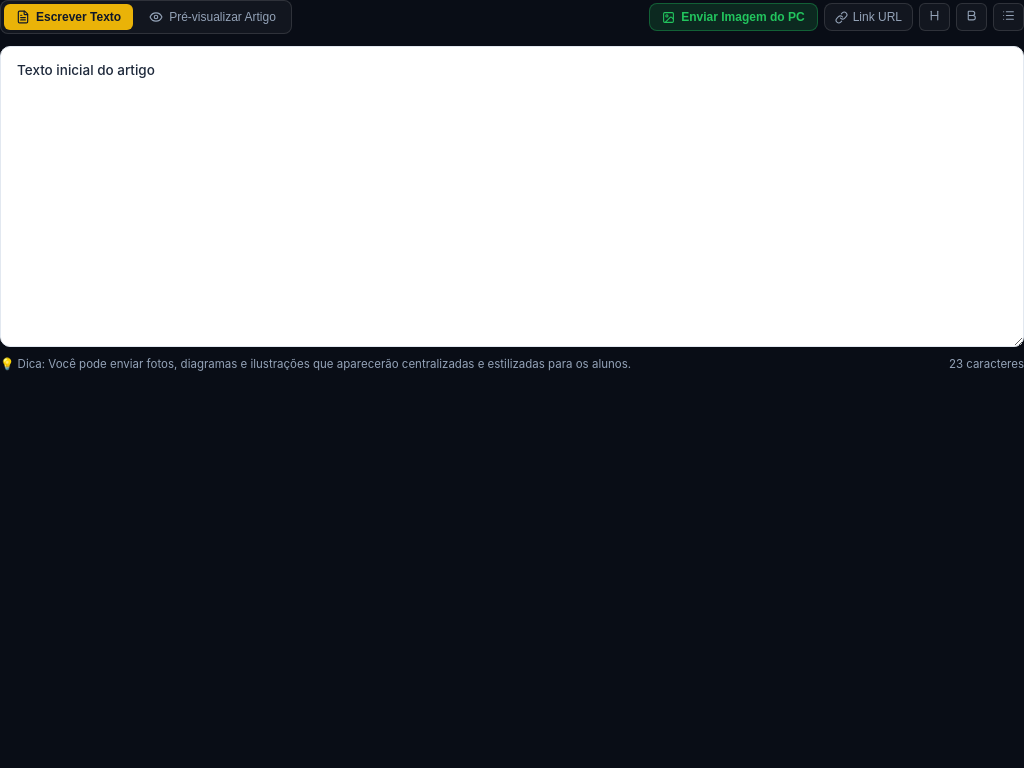
LessonArticleEditor Component › renders editor tabs, toolbar with image buttons, and allows inserting image via link and previewing
Expected: the button with test id "article-tab-write-btn" is shown, [4,4,133,30]
Expected: the button with test id "article-tab-preview-btn" is shown, [137,4,288,30]
Note: Abre modal de URL de imagem
Click the button with test id "insert-image-url-btn": [868, 17] box [824,3,913,31]
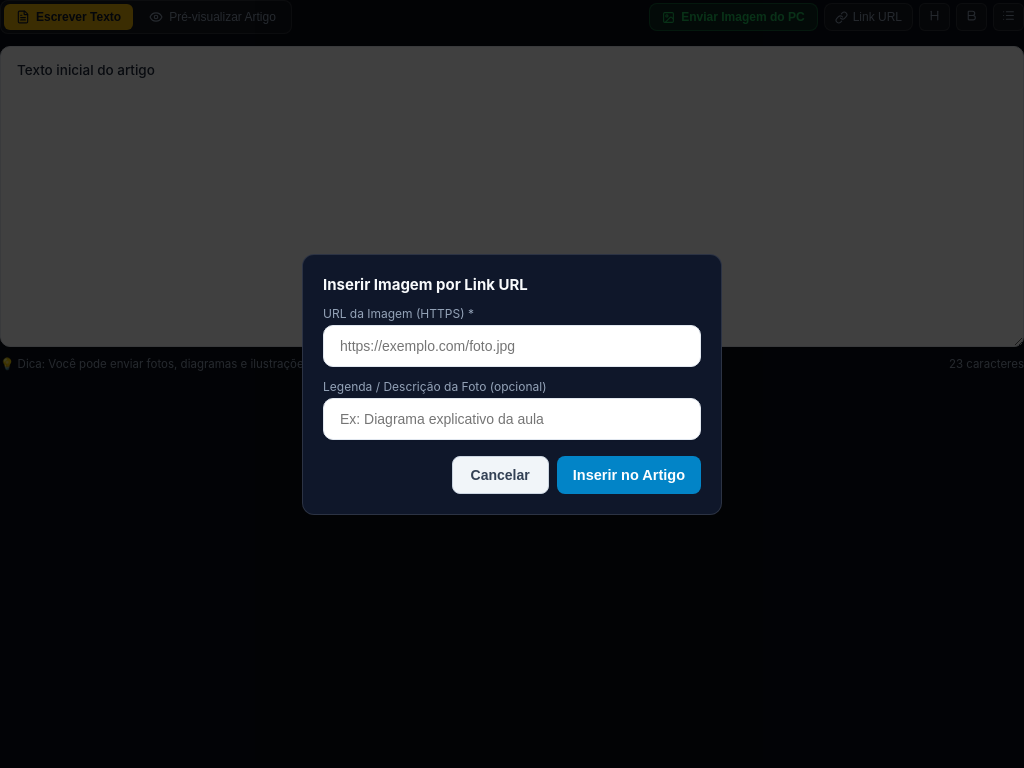
Expected: the field with test id "url-image-input" is shown
In the field with test id "url-image-input": [512, 346] box [323,324,701,366], type "https://cdn.exemplo.com/foto.jpg"
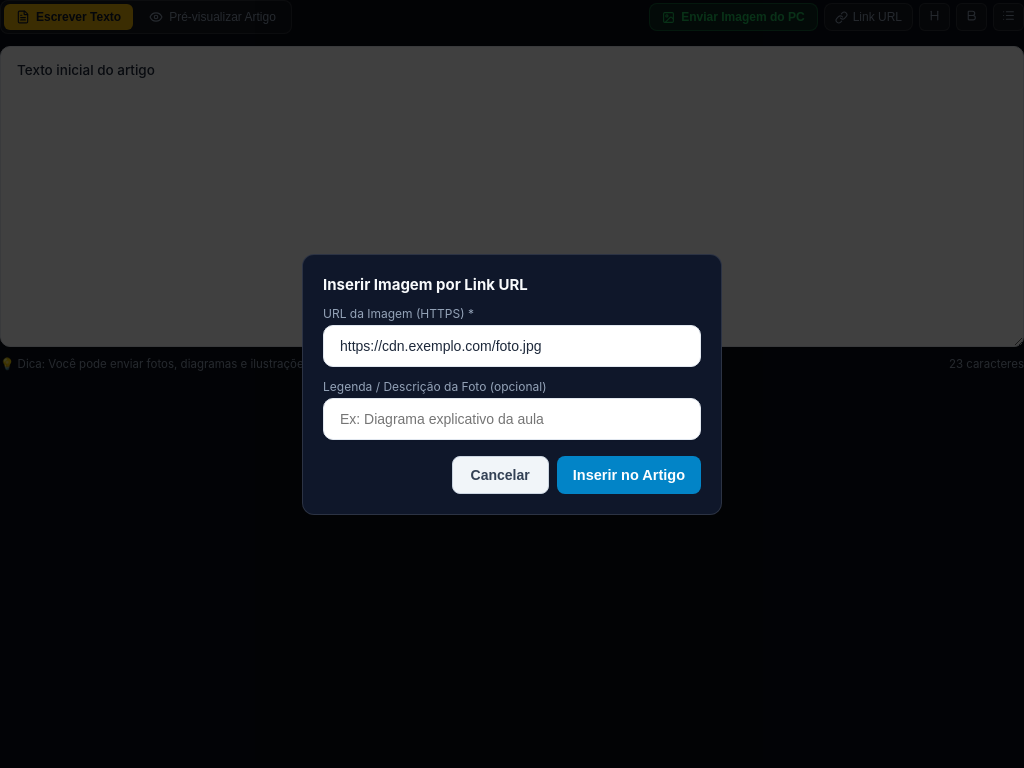
In the field with test id "url-image-alt-input": [512, 418] box [323,398,701,440], type "Foto Ilustrativa"
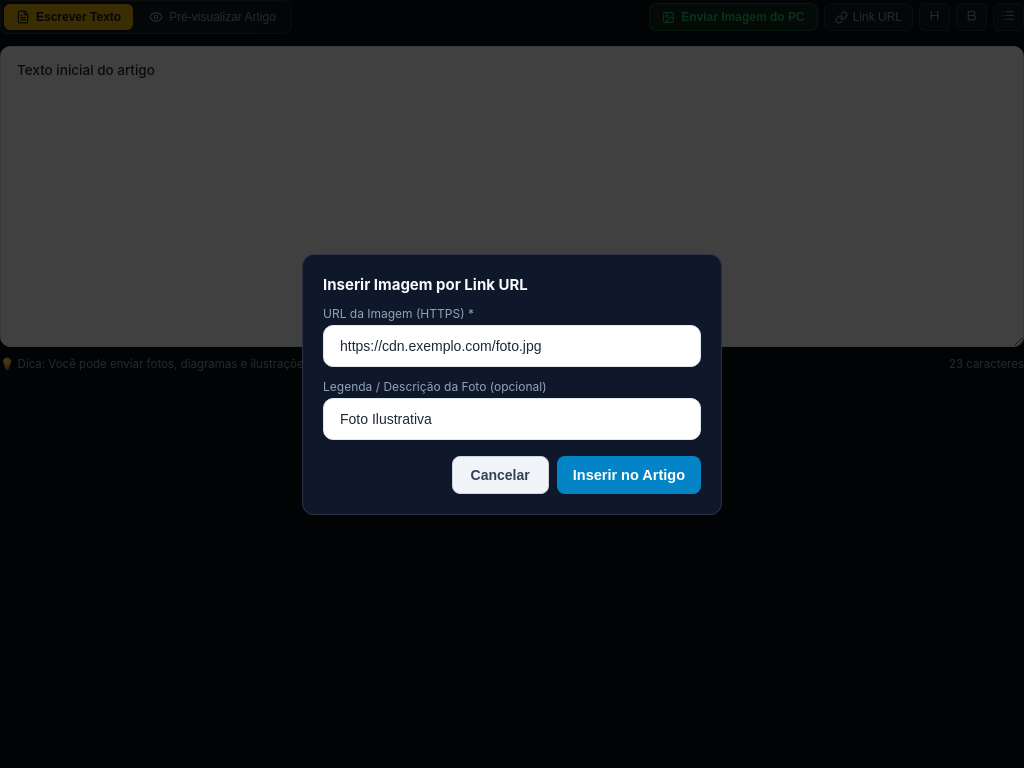
Click the button with test id "confirm-url-image-btn": [629, 474] box [557,456,701,494]
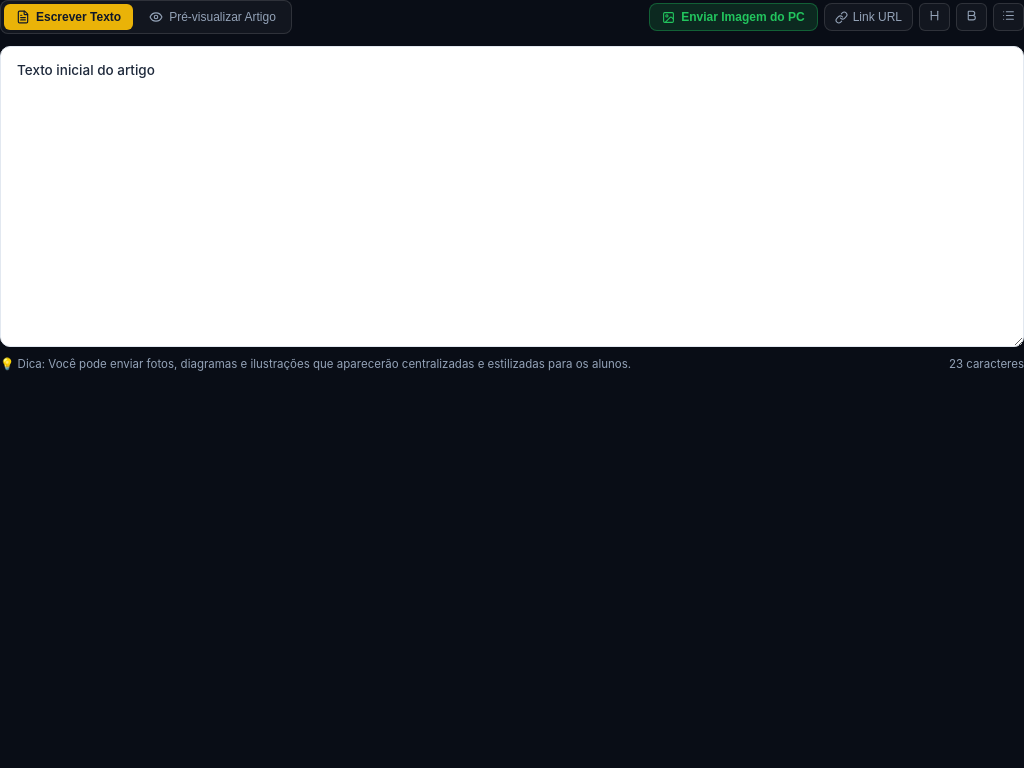
Note: Alterna para aba de pré-visualização
Click the button with test id "article-tab-preview-btn": [213, 17] box [137,4,288,30]
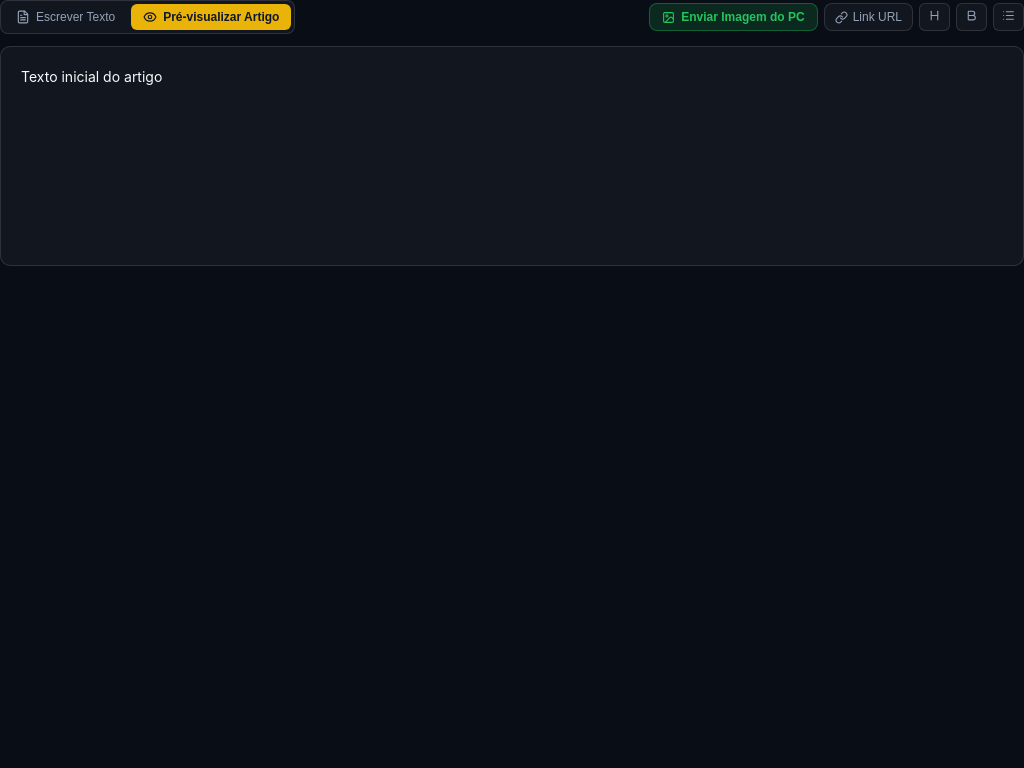
Expected: the element with test id "article-preview-container" is shown, [0,46,1023,266]
